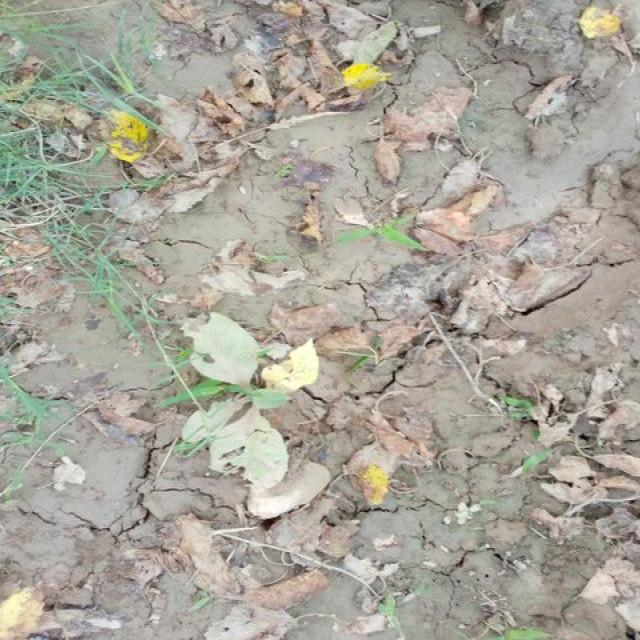crop: (185, 320, 322, 484)
